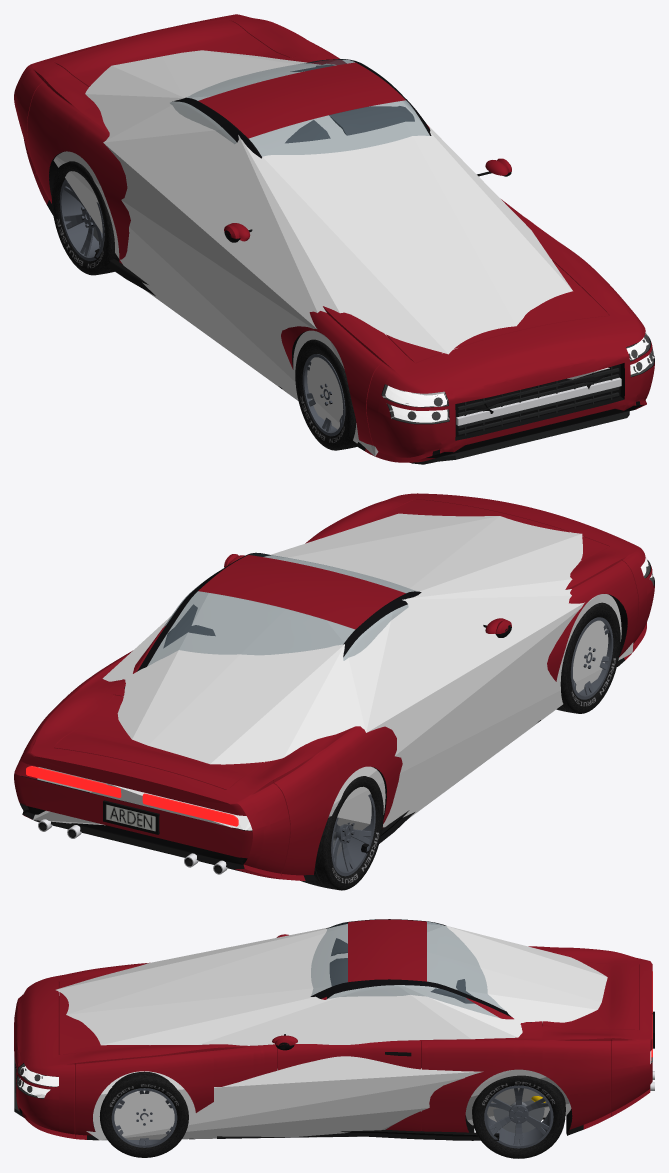
File: arden_bruiser_lod0.glb
3 views of the same model, one above another, from view 1: azimuth 30°, elevation 25°; view 2: azimuth 150°, elevation 25°; view 3: azimuth 270°, elevation 25° (orthographic). The views are drawn at different scales.
Visible parts, largest first — view 1: col_body, body, glass, trim, wheel_RR, wheel_FR, interior, lights_front, underbody; view 2: col_body, body, glass, wheel_RR, wheel_FR, lights_rear, plate_rear, trim, interior, underbody, exhaust; view 3: col_body, body, glass, wheel_RL, wheel_FL, trim, interior, lights_front, brake_RL.
Part boxes in pixels (bbox=[...]): col_body: bbox=[53, 50, 654, 456]; body: bbox=[14, 14, 654, 462]; glass: bbox=[170, 59, 429, 156]; trim: bbox=[94, 158, 629, 464]; wheel_RR: bbox=[51, 161, 119, 275]; wheel_FR: bbox=[295, 339, 356, 450]; interior: bbox=[285, 64, 414, 143]; lights_front: bbox=[382, 332, 653, 423]; underbody: bbox=[49, 151, 634, 459]; col_body: bbox=[33, 513, 633, 830]; body: bbox=[14, 493, 654, 880]; glass: bbox=[147, 553, 417, 666]; wheel_RR: bbox=[300, 776, 383, 890]; wheel_FR: bbox=[556, 602, 620, 713]; lights_rear: bbox=[26, 766, 238, 826]; plate_rear: bbox=[103, 800, 159, 834]; trim: bbox=[224, 554, 540, 853]; interior: bbox=[163, 604, 215, 648]; underbody: bbox=[33, 594, 627, 872]; exhaust: bbox=[38, 819, 227, 874]; col_body: bbox=[36, 924, 651, 1140]; body: bbox=[14, 919, 652, 1140]; glass: bbox=[311, 921, 504, 1017]; wheel_RL: bbox=[472, 1075, 565, 1158]; wheel_FL: bbox=[99, 1071, 188, 1157]; trim: bbox=[14, 934, 499, 1140]; interior: bbox=[329, 938, 474, 1003]; lights_front: bbox=[17, 993, 58, 1098]; brake_RL: bbox=[493, 1096, 545, 1132].
Size of the model in its own units: 1.92 by 1.36 by 4.88.
15 materials, 3 textured.
